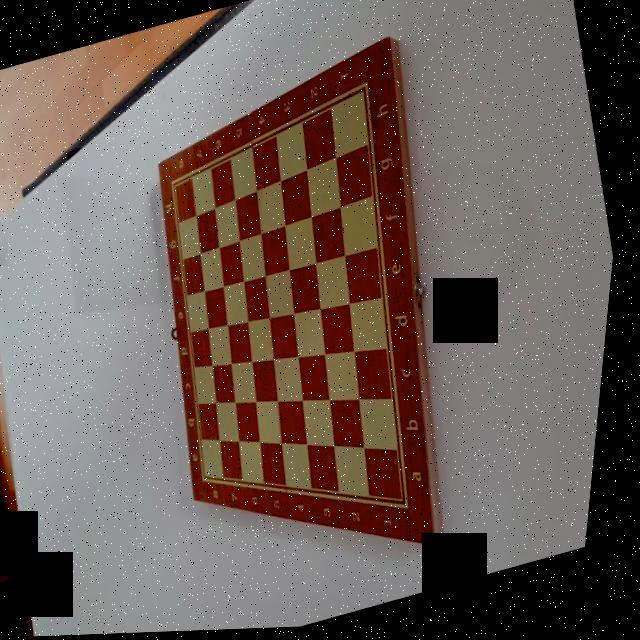chess-table-corners: (400, 488, 430, 524), (352, 72, 379, 105), (164, 172, 188, 198), (202, 464, 225, 491)
